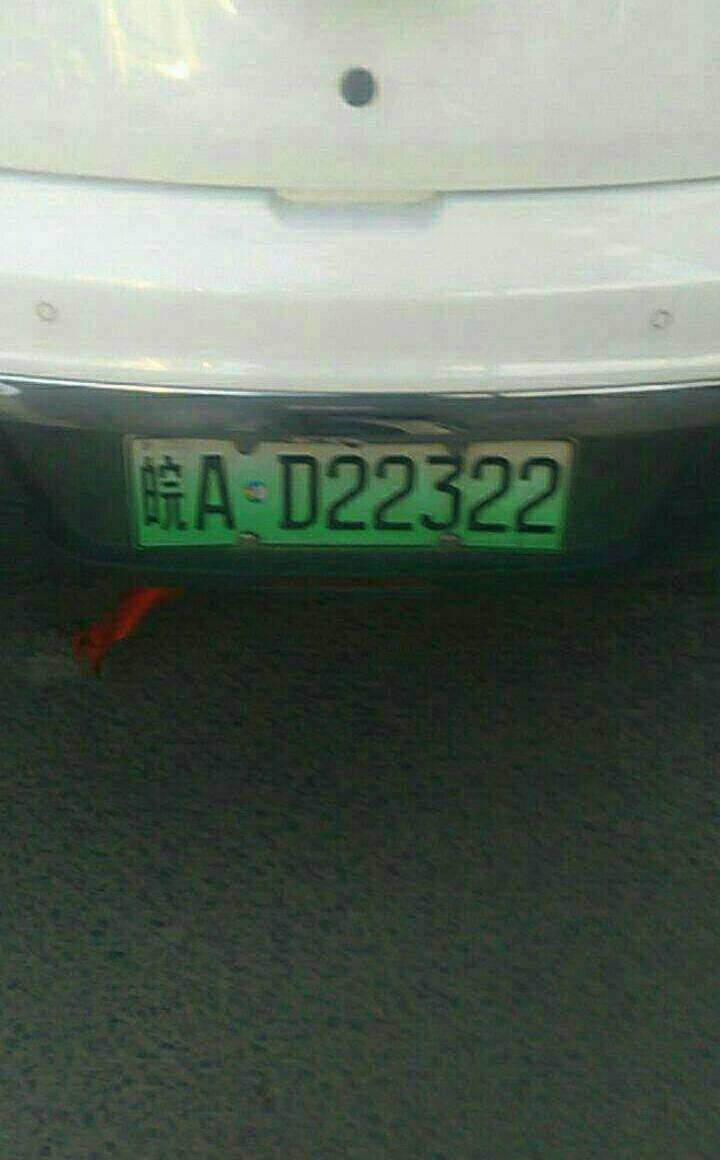car_id: (131, 431, 569, 562)
